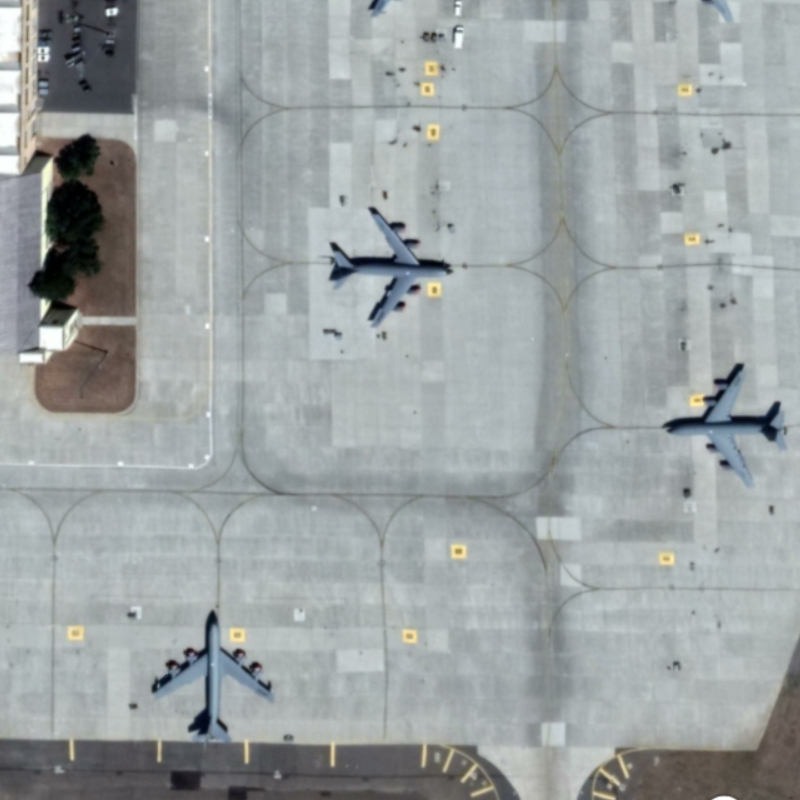A14: (145, 604, 278, 747), (652, 357, 797, 488), (323, 204, 457, 332)
